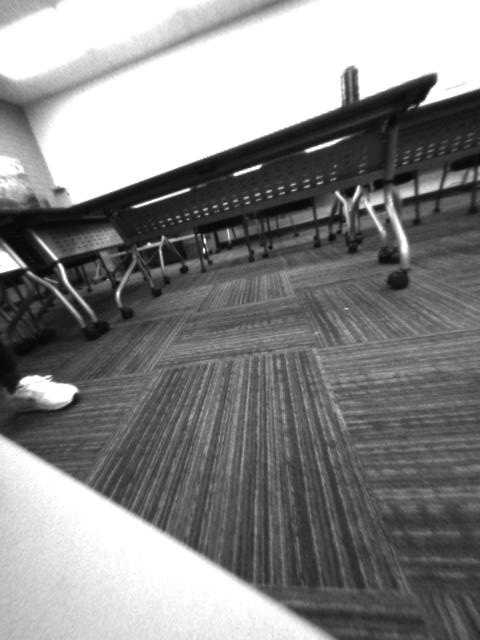can: (338, 63, 360, 108)
